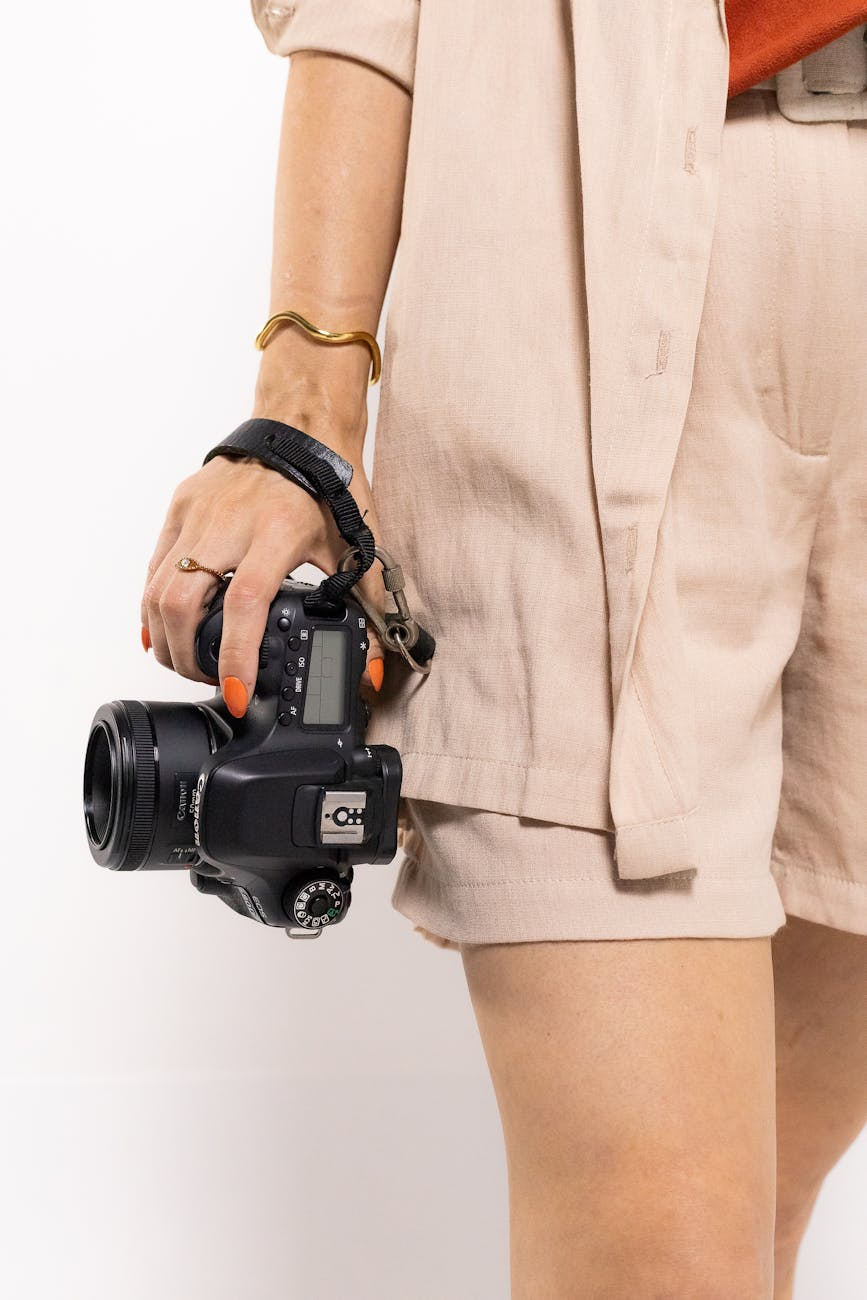shorts: (358, 683, 867, 980)
